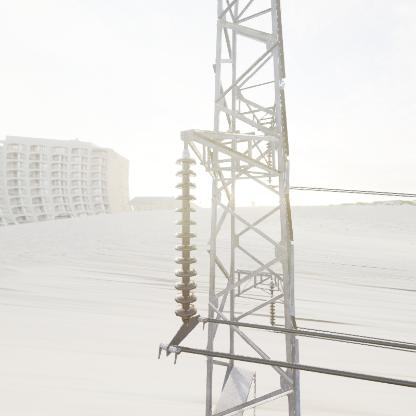insulator: (172, 156, 201, 325)
